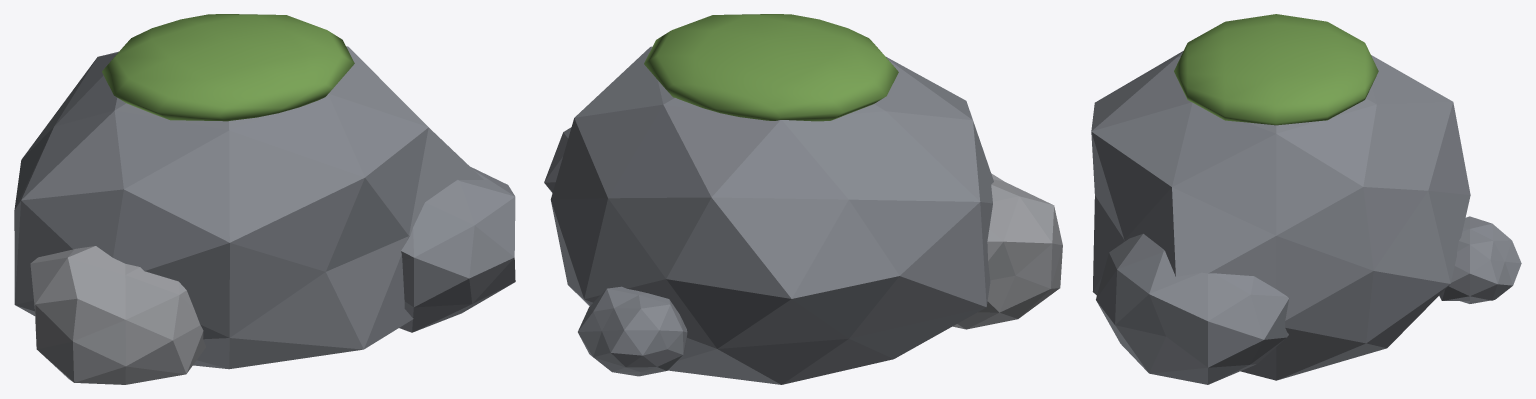
The model's file is Rock2.glb.
3 renders of one model, left to right at view 1: azimuth 30°, elevation 25°; view 2: azimuth 150°, elevation 25°; view 3: azimuth 270°, elevation 25°, orthographic. The views are drawn at different scales.
Parts seen in each view (by area): view 1: Rock2; view 2: Rock2; view 3: Rock2.
Boxes of the visible parts, left/top/right/bottom form: Rock2: left=14, top=14, right=515, bottom=384; Rock2: left=544, top=14, right=1062, bottom=384; Rock2: left=1091, top=14, right=1521, bottom=384.
Size of the model in its own units: 2.26 by 1.39 by 1.89.
